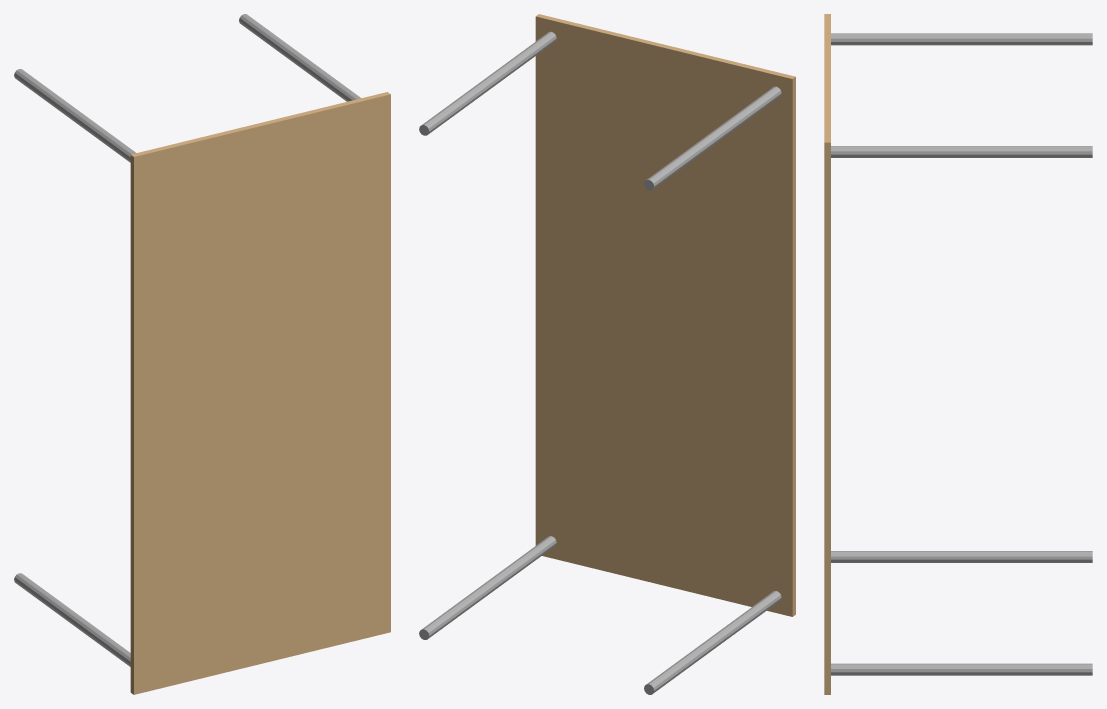
File: nil_link_mesh.dae
3 views of the same model, side by side, from view 1: azimuth 30°, elevation 25°; view 2: azimuth 150°, elevation 25°; view 3: azimuth 270°, elevation 25° (orthographic). The views are drawn at different scales.
Visible parts, largest first — view 1: nil_link (×4); view 2: nil_link (×5); view 3: nil_link (×5).
Boxes of the visible parts, x1,y1,x2,y2 form: nil_link (×4): (14,14,390,694); nil_link (×5): (419,14,795,694); nil_link (×5): (824,14,1092,694).
Bounding box in the file's own units: 0.8 × 1.6 × 0.705.
